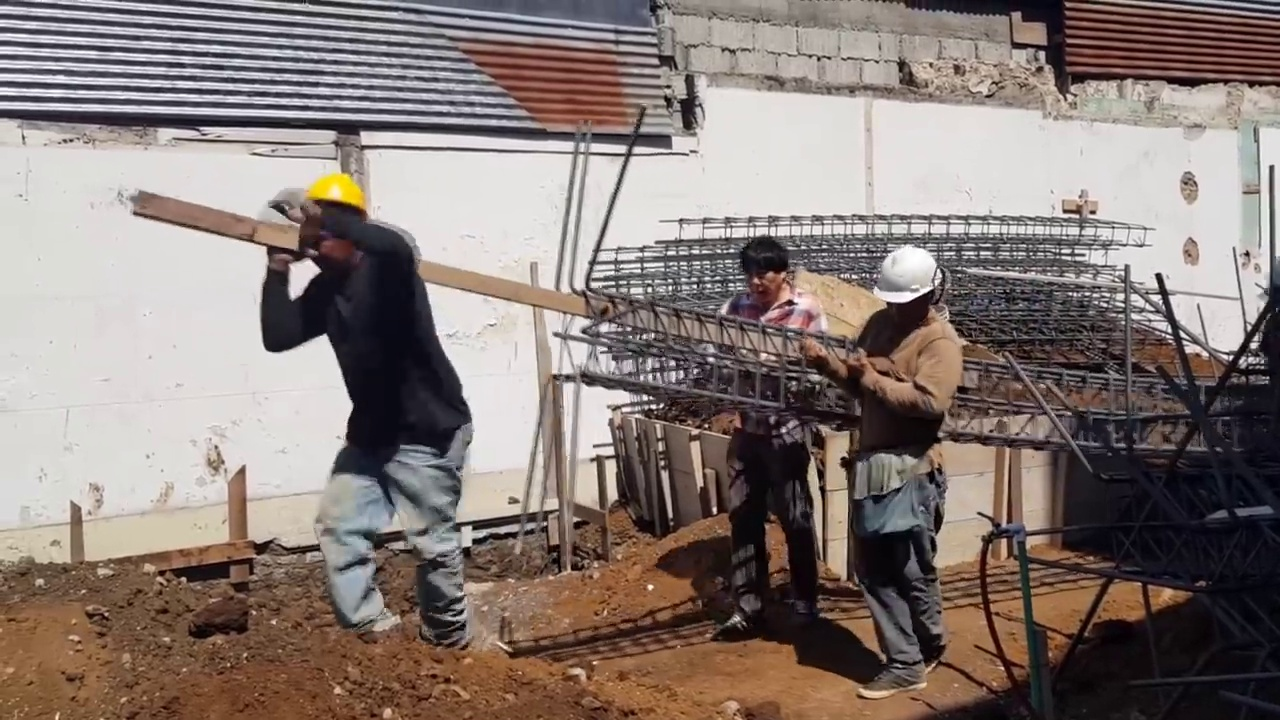helmet: (879, 240, 946, 309), (304, 169, 371, 217)
helmet-off: (738, 239, 791, 307)
helmet-on: (862, 234, 946, 330), (300, 173, 370, 280)
person: (256, 167, 475, 663), (800, 235, 966, 710), (711, 243, 829, 650)
